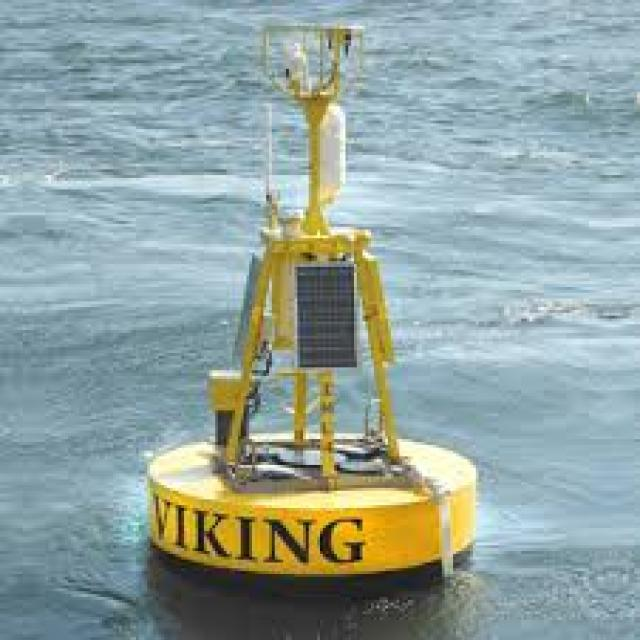marque: (135, 18, 488, 600)
